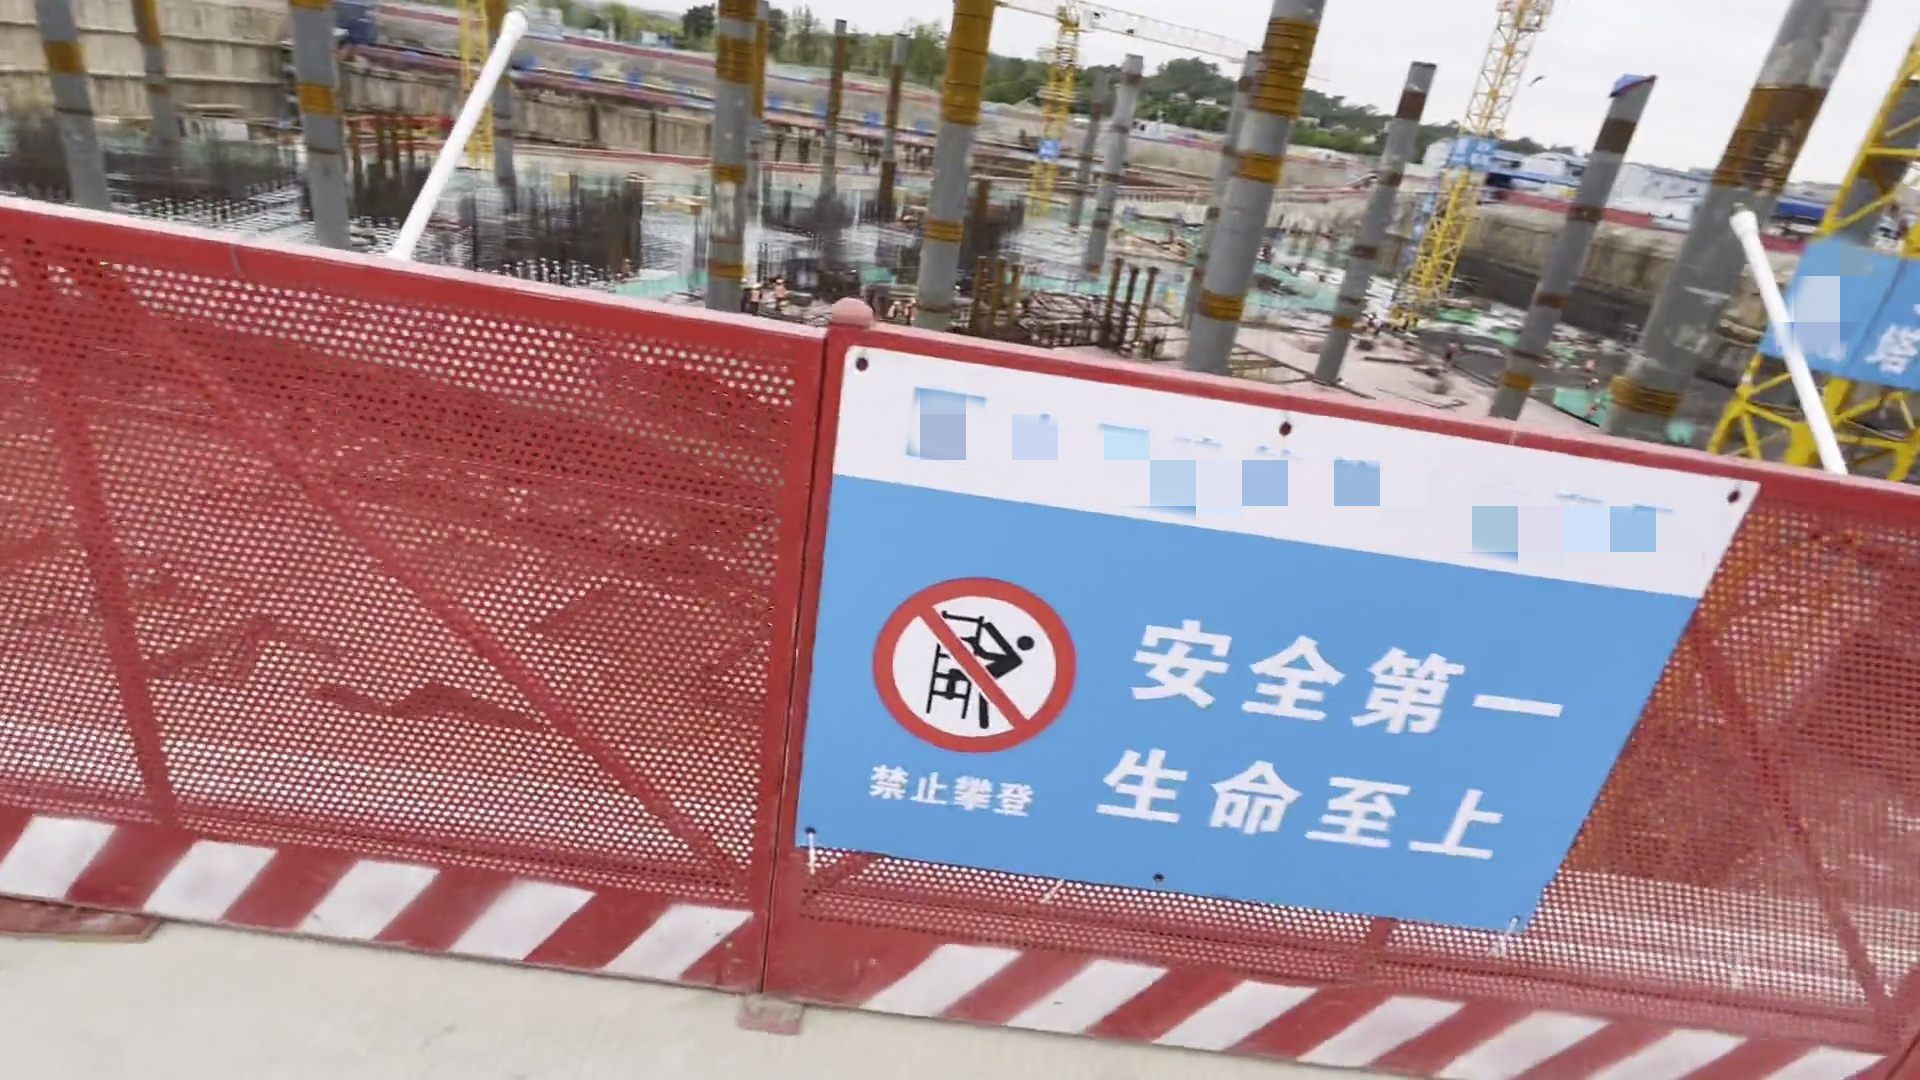fence: (802, 323, 1920, 1067), (1, 181, 778, 964)
slogan: (844, 385, 1559, 881)
